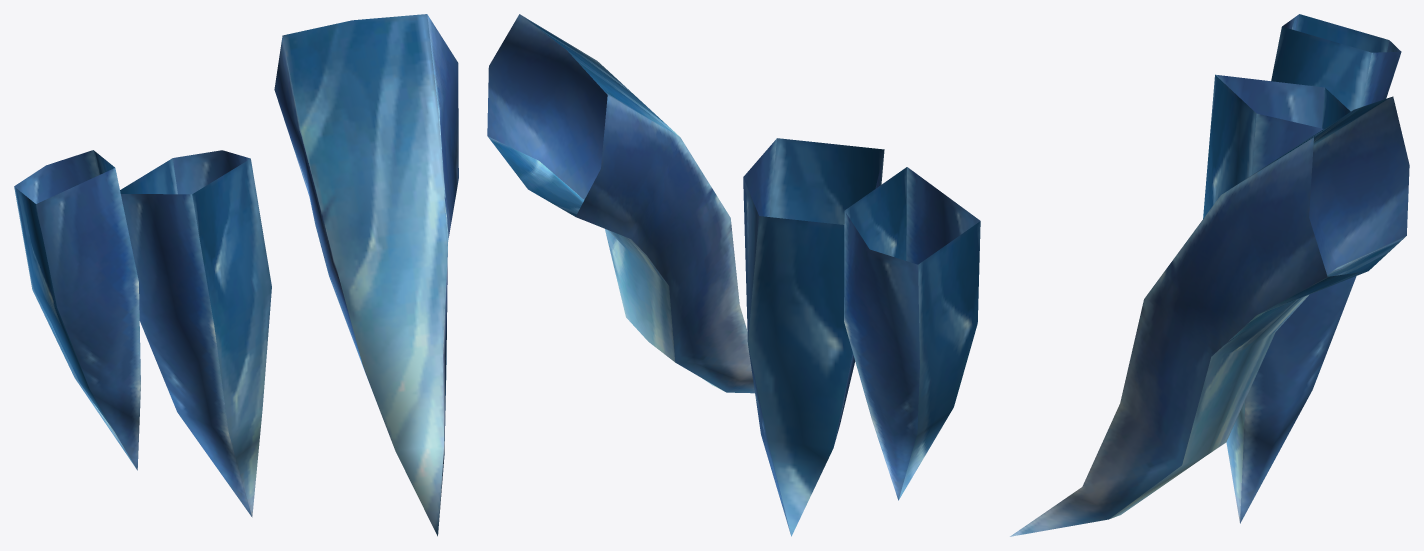
File: SM_crystal_01.fbx
3 views of the same model, side by side, from view 1: azimuth 30°, elevation 25°; view 2: azimuth 150°, elevation 25°; view 3: azimuth 270°, elevation 25° (orthographic). The views are drawn at different scales.
Visible parts, largest first — view 1: SM_crystal_01; view 2: SM_crystal_01; view 3: SM_crystal_01.
Part boxes in pixels (box(x1,y1,x2,y2)): SM_crystal_01: box(14, 14, 458, 536); SM_crystal_01: box(487, 14, 980, 536); SM_crystal_01: box(1010, 14, 1409, 536).
Size of the model in its own units: 1.46 by 1.41 by 1.01.
